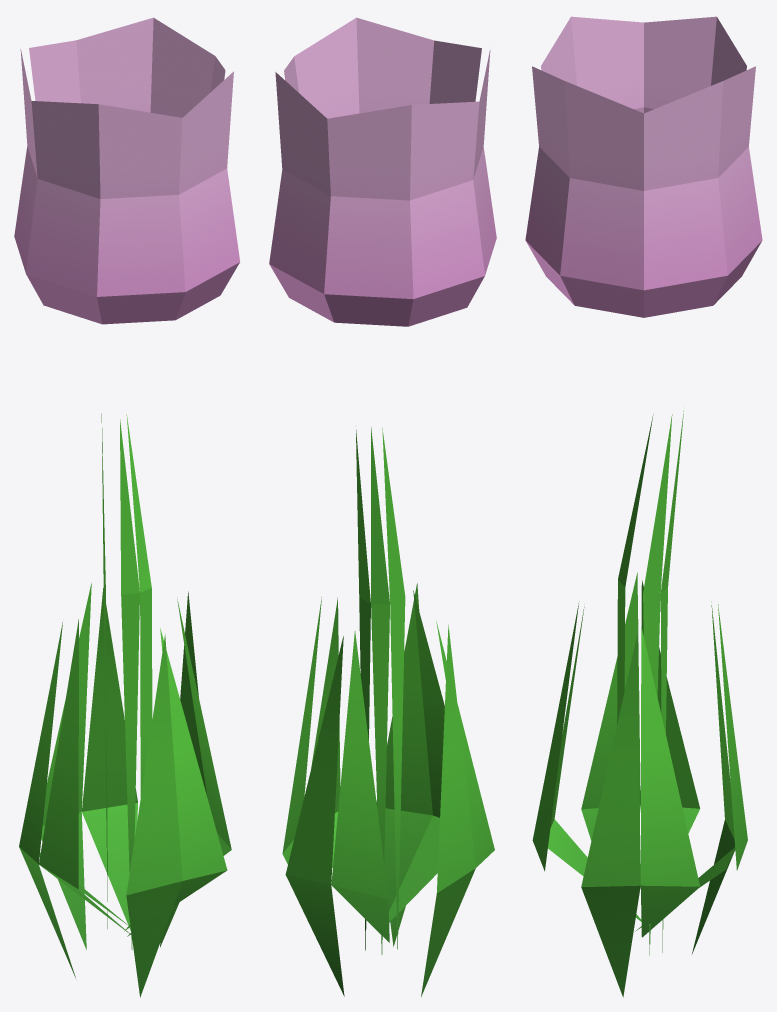
Rendered from Flower2.glb.
3 views of the same model, side by side, from view 1: azimuth 30°, elevation 25°; view 2: azimuth 150°, elevation 25°; view 3: azimuth 270°, elevation 25° (orthographic).
Visible parts, largest first — view 1: Flower; view 2: Flower; view 3: Flower.
Boxes of the visible parts, <box> form: Flower: <box>14,17,239,997</box>; Flower: <box>269,17,496,996</box>; Flower: <box>525,16,762,997</box>.
Size of the model in its own units: 0.3424 by 1.48 by 0.3424.
Materials: 1 (1 with a texture image).
